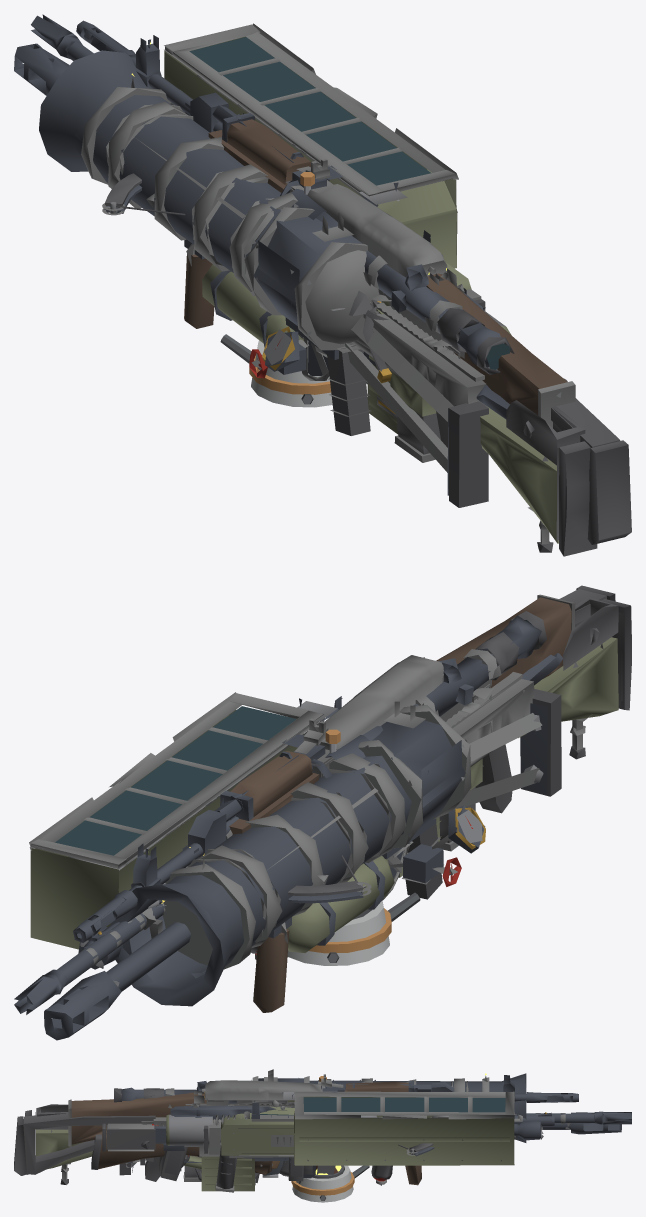
File: caja_armas.glb
The picture shows the model from 3 angles, top to bottom: view 1: azimuth 30°, elevation 25°; view 2: azimuth 150°, elevation 25°; view 3: azimuth 270°, elevation 25°; orthographic projection. The views are drawn at different scales.
Visible parts, largest first — view 1: arma_molino, arma_sniper, arma_rifle, arma_lmg, arma_decoy, arma_cable, arma_xbow, arma_barrena; view 2: arma_molino, arma_sniper, arma_rifle, arma_lmg, arma_decoy, arma_xbow; view 3: arma_molino, arma_rifle, arma_lmg, arma_barrena, arma_cable, arma_sniper, arma_decoy, arma_shotgun, arma_xbow, arma_nail, arma_disruptor, arma_smg (+1 smaller).
Boxes of the visible parts, x1,y1,x2,y2 form: arma_molino: (39, 23, 488, 507); arma_sniper: (14, 43, 597, 556); arma_rifle: (76, 20, 575, 427); arma_lmg: (31, 14, 631, 544); arma_decoy: (220, 172, 332, 407); arma_cable: (292, 144, 485, 380); arma_xbow: (102, 173, 185, 215); arma_barrena: (363, 288, 567, 383); arma_molino: (29, 689, 561, 1012); arma_sniper: (44, 597, 631, 1040); arma_rifle: (73, 594, 575, 942); arma_lmg: (14, 585, 615, 1014); arma_decoy: (287, 729, 420, 965); arma_xbow: (250, 855, 371, 953); arma_molino: (119, 1069, 526, 1185); arma_rifle: (68, 1074, 578, 1173); arma_lmg: (14, 1091, 631, 1191); arma_barrena: (102, 1107, 543, 1181); arma_cable: (203, 1103, 293, 1192); arma_sniper: (25, 1081, 621, 1184); arma_decoy: (291, 1076, 369, 1202); arma_shotgun: (91, 1112, 554, 1169); arma_xbow: (181, 1143, 434, 1179); arma_nail: (195, 1100, 431, 1181); arma_disruptor: (255, 1097, 336, 1185); arma_smg: (192, 1083, 417, 1192).
Bounding box in the file's own units: 0.3887 × 0.3079 × 1.41.
